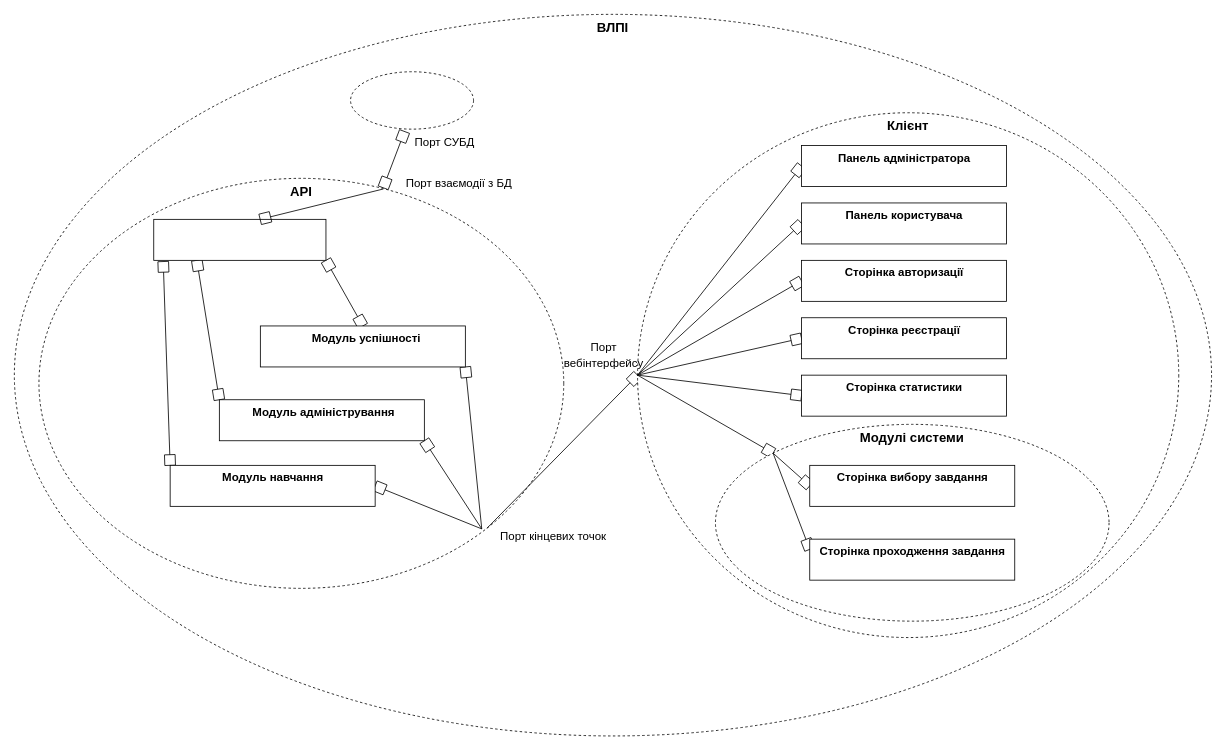
The diagram is 1226 pixels wide and 750 high, and some of its shapes have lost their labels. The centre of each missing label's shape, as x and y in pixels:
"БД" goes at (x=412, y=100).
"Система взаємодії з бд" goes at (x=239, y=239).
